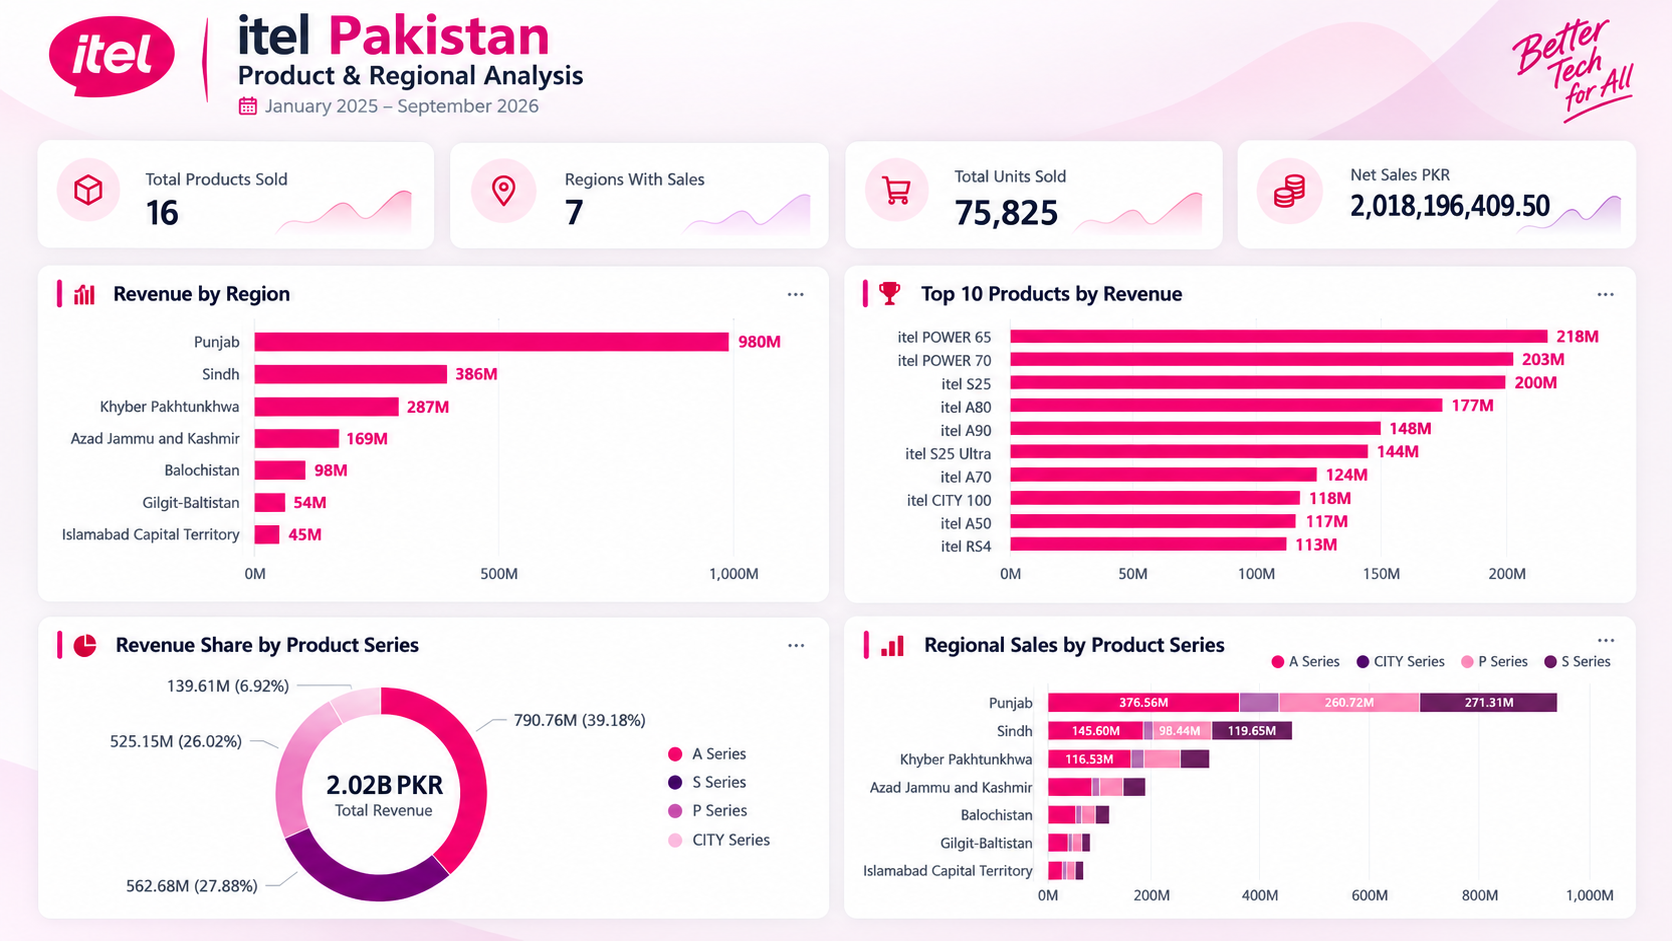

This screenshot's page, from the dashboard's own definition file:
{"tool":"powerbi","page":{"name":"Product & Regional Analysis","canvas":[1920,1500],"ordinal":2},"visuals":[{"type":"cardVisual","fields":{"Data":["All_Measures.Total Products Sold"]},"box":[26.2,45.2,304.8,178.6],"z":0},{"type":"cardVisual","fields":{"Data":["All_Measures.Regions With Sales"]},"box":[350,47.6,304.8,178.6],"z":1},{"type":"cardVisual","fields":{"Data":["All_Measures.Net Sales PKR"]},"box":[1002.4,47.6,466.7,178.6],"z":2},{"type":"cardVisual","fields":{"Data":["All_Measures.Total Units Sold"]},"box":[678.6,47.6,304.8,178.6],"z":3},{"type":"clusteredBarChart","fields":{"Category":["DimRegions_Stage.RegionName"],"Y":["All_Measures.Net Sales PKR"]},"box":[26.2,278.6,804.8,516.7],"z":4},{"type":"clusteredBarChart","title":"Top 10 Products by Revenue","fields":{"Category":["DimProducts_Stage.ModelName"],"Y":["All_Measures.Net Sales PKR"]},"box":[857.1,278.6,909.5,516.7],"z":5},{"type":"donutChart","title":"Revenue Share by Product Series.","fields":{"Category":["DimProducts_Stage.Series"],"Y":["All_Measures.Net Sales PKR"]},"box":[26,806,805,517],"z":6},{"type":"barChart","title":"Regional Sales by Product Series","fields":{"Category":["DimRegions_Stage.RegionName"],"Series":["DimProducts_Stage.Series"],"Y":["All_Measures.Net Sales PKR"]},"box":[857.1,807.1,907.1,516.7],"z":7}]}

Visuals, with their boxes on the page's 1920x1500 design canvas (x1, y1, x2, y2). These are canvas units, not pixel positions in the 1672x941 screenshot, which may show the page scaled, cropped or inside an application window:
cardVisual - All_Measures.Total Products Sold: x1=26 y1=45 x2=331 y2=224
cardVisual - All_Measures.Regions With Sales: x1=350 y1=48 x2=655 y2=226
cardVisual - All_Measures.Net Sales PKR: x1=1002 y1=48 x2=1469 y2=226
cardVisual - All_Measures.Total Units Sold: x1=679 y1=48 x2=983 y2=226
clusteredBarChart - DimRegions_Stage.RegionName x All_Measures.Net Sales PKR: x1=26 y1=279 x2=831 y2=795
"Top 10 Products by Revenue" clusteredBarChart: x1=857 y1=279 x2=1767 y2=795
"Revenue Share by Product Series." donutChart: x1=26 y1=806 x2=831 y2=1323
"Regional Sales by Product Series" barChart: x1=857 y1=807 x2=1764 y2=1324
